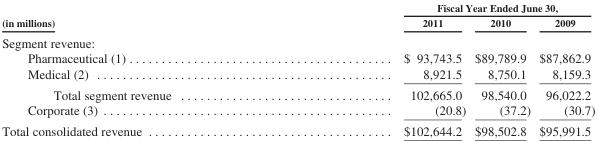table: (1, 1, 594, 137)
table column: (1, 1, 286, 137), (286, 1, 469, 137), (469, 1, 534, 137), (534, 1, 594, 137)
table column header: (1, 1, 594, 31)
table projected row header: (1, 31, 594, 50)
table row: (1, 31, 594, 50), (1, 83, 594, 102), (1, 65, 594, 83), (1, 102, 594, 120), (1, 14, 594, 31), (1, 120, 594, 137), (1, 50, 594, 65), (1, 1, 594, 14)
table spanning cell: (1, 1, 286, 31), (286, 1, 594, 14)
